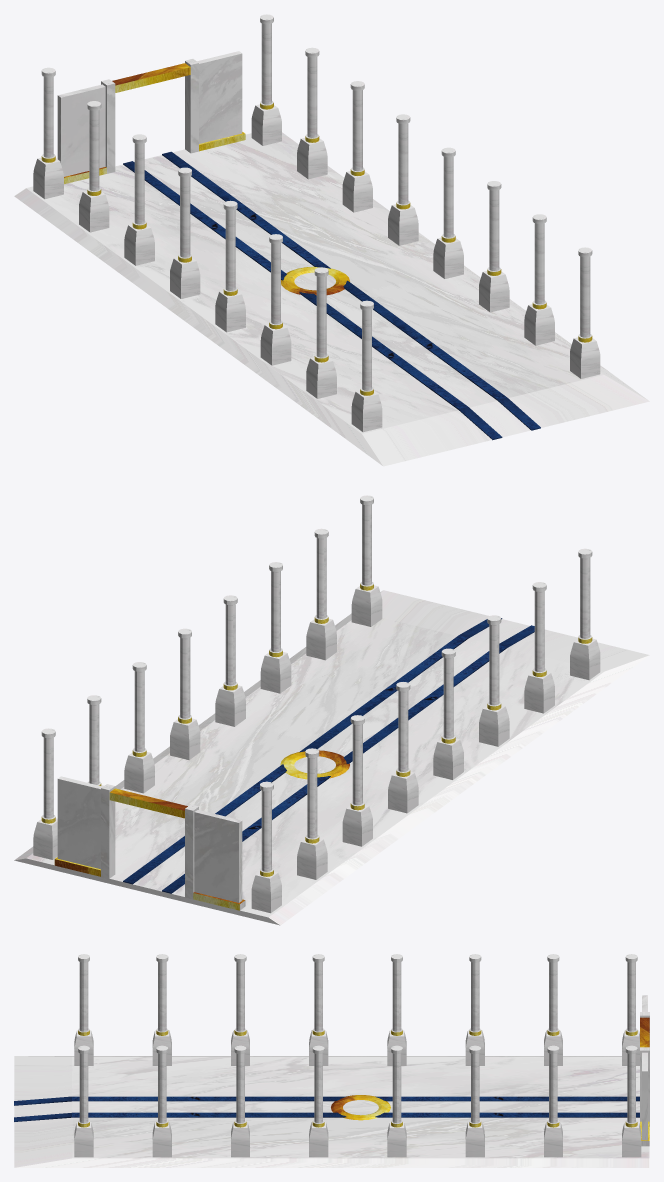
The model's file is entrance.glb.
3 renders of one model, top to bottom at view 1: azimuth 30°, elevation 25°; view 2: azimuth 150°, elevation 25°; view 3: azimuth 270°, elevation 25°, orthographic. The views are drawn at different scales.
Visible parts, largest first — view 1: Floor, Pillar, Arch, Carp;etLower, CentreRing, CarpetUpper; view 2: Floor, Pillar, Arch, Carp;etLower, CentreRing; view 3: Floor, Pillar, Carp;etLower, Arch, CentreRing, CarpetUpper.
Boxes of the visible parts, x1=… form: Floor: x1=14, y1=132, x2=649, y2=466; Pillar: x1=33, y1=14, x2=600, y2=432; Arch: x1=57, y1=51, x2=245, y2=184; Carp;etLower: x1=123, y1=151, x2=506, y2=409; CentreRing: x1=281, y1=266, x2=349, y2=295; CarpetUpper: x1=459, y1=397, x2=540, y2=440; Floor: x1=14, y1=590, x2=649, y2=925; Pillar: x1=33, y1=495, x2=600, y2=913; Arch: x1=54, y1=776, x2=245, y2=910; Carp;etLower: x1=123, y1=635, x2=507, y2=893; CentreRing: x1=280, y1=750, x2=349, y2=779; Floor: x1=14, y1=1056, x2=649, y2=1167; Pillar: x1=74, y1=954, x2=641, y2=1157; Carp;etLower: x1=72, y1=1096, x2=639, y2=1117; Arch: x1=640, y1=995, x2=649, y2=1146; CentreRing: x1=331, y1=1095, x2=390, y2=1120; CarpetUpper: x1=14, y1=1096, x2=71, y2=1121.
Size of the model in its own units: 11 by 5.03 by 26.42.
Materials: 3 (3 with a texture image).
